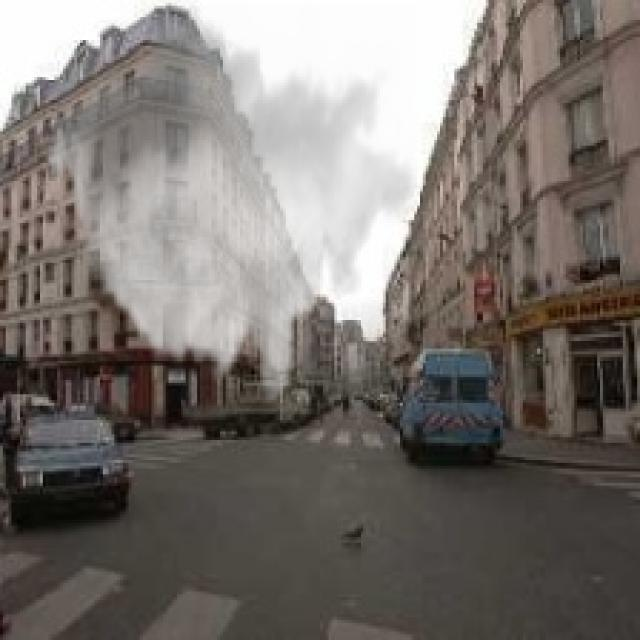Smoke: (42, 6, 418, 408)
